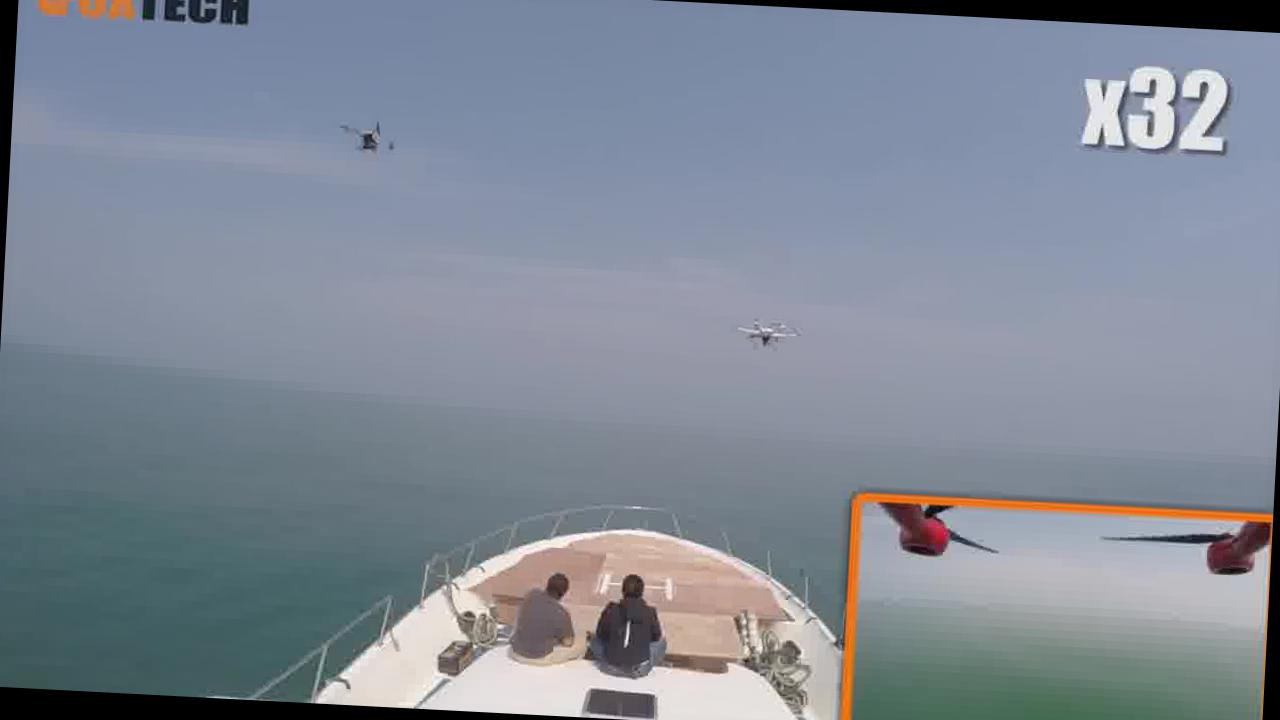drone: (730, 308, 810, 359), (331, 114, 409, 166)
